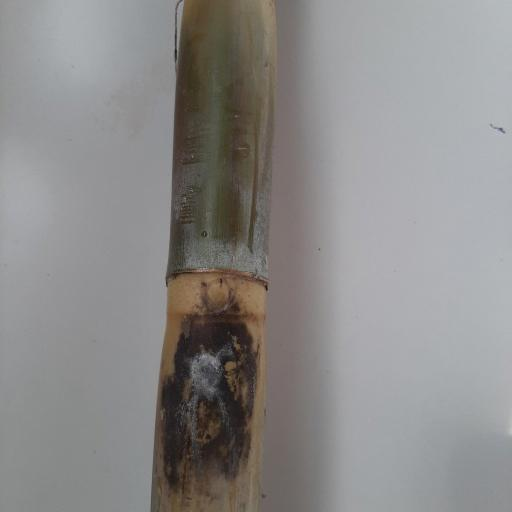Bud: (201, 277, 231, 315)
